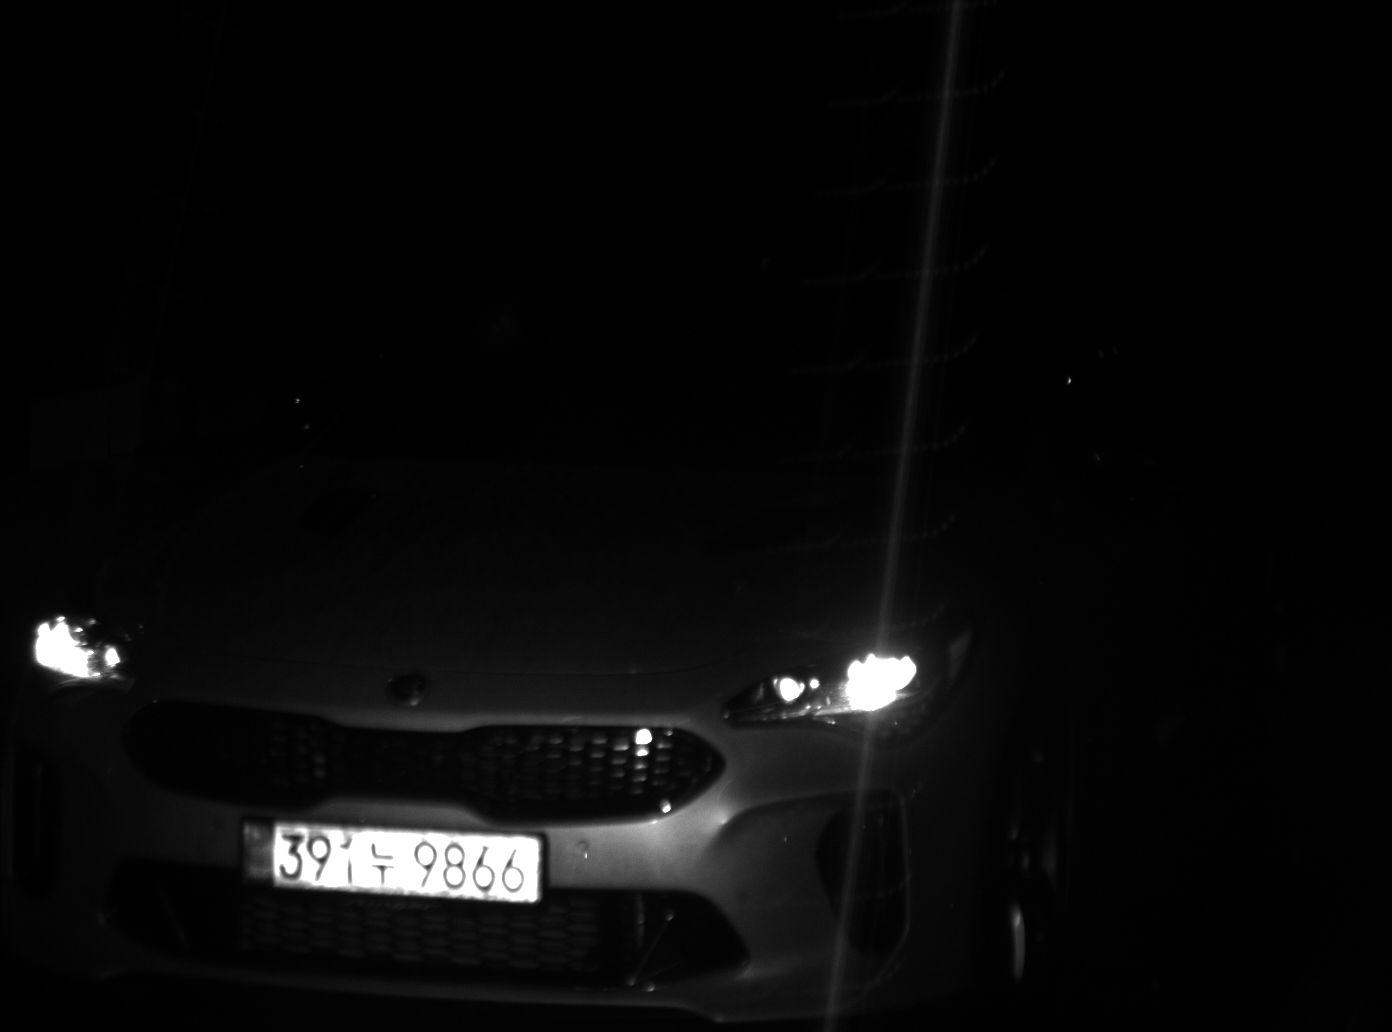car: (31, 87, 1131, 1032)
plate: (236, 819, 547, 906)
